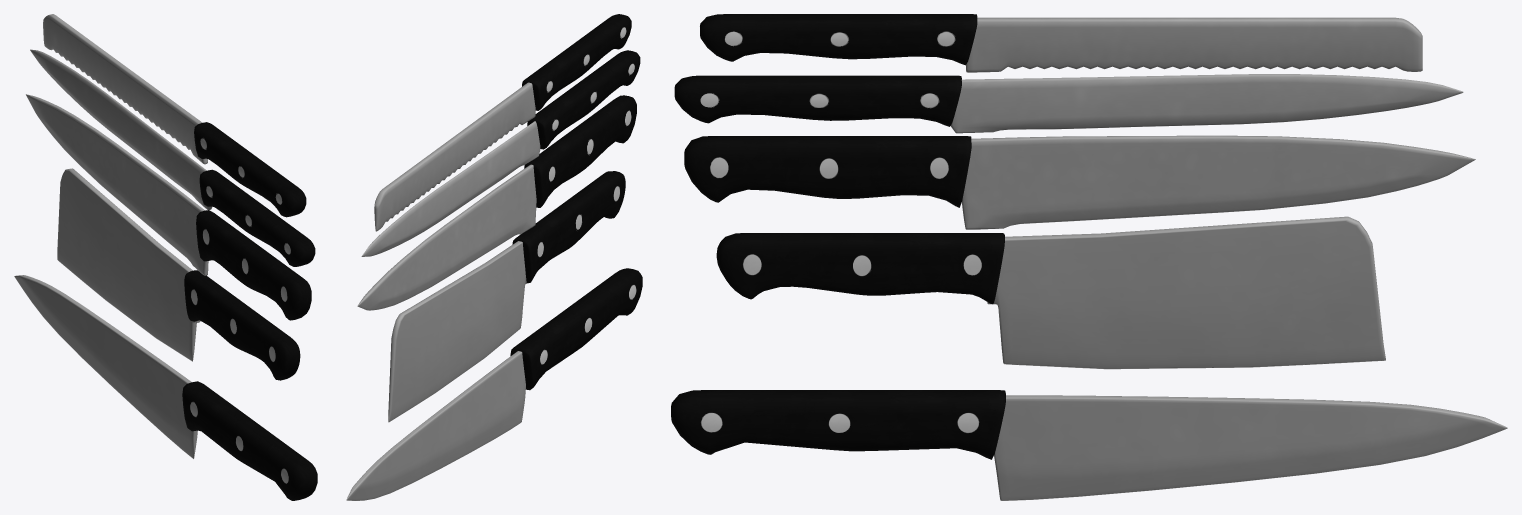
File: Kitchen_Knives.fbx
3 renders of one model, left to right at view 1: azimuth 30°, elevation 25°; view 2: azimuth 150°, elevation 25°; view 3: azimuth 270°, elevation 25°, orthographic. The views are drawn at different scales.
Visible parts, largest first — view 1: Blade2, Blade1, Blade3, Handle.001, Blade5, Blade4, Handle.002, Handle.003, Handle, Handle.004; view 2: Blade2, Blade1, Blade3, Blade5, Handle.001, Blade4, Handle.002, Handle.003, Handle, Handle.004; view 3: Blade2, Blade1, Blade3, Blade5, Blade4, Handle.001, Handle.003, Handle.002, Handle, Handle.004.
Part boxes in pixels (left/top/right/bottom): Blade2: left=57, top=168, right=200, bottom=361; Blade1: left=14, top=275, right=197, bottom=458; Blade3: left=26, top=94, right=208, bottom=275; Handle.001: left=182, top=381, right=317, bottom=500; Blade5: left=43, top=14, right=207, bottom=164; Blade4: left=30, top=49, right=212, bottom=209; Handle.002: left=184, top=270, right=300, bottom=380; Handle.003: left=196, top=210, right=311, bottom=320; Handle: left=199, top=169, right=315, bottom=266; Handle.004: left=194, top=122, right=306, bottom=217; Blade2: left=388, top=241, right=526, bottom=422; Blade1: left=346, top=351, right=525, bottom=500; Blade3: left=357, top=164, right=536, bottom=310; Blade5: left=374, top=82, right=535, bottom=231; Handle.001: left=510, top=268, right=642, bottom=390; Blade4: left=361, top=121, right=540, bottom=256; Handle.002: left=512, top=171, right=625, bottom=283; Handle.003: left=524, top=95, right=636, bottom=207; Handle: left=527, top=50, right=640, bottom=149; Handle.004: left=522, top=14, right=631, bottom=110; Blade2: left=987, top=216, right=1385, bottom=369; Blade1: left=994, top=395, right=1507, bottom=500; Blade3: left=962, top=135, right=1475, bottom=229; Blade5: left=966, top=17, right=1422, bottom=72; Blade4: left=950, top=74, right=1463, bottom=133; Handle.001: left=671, top=390, right=1005, bottom=459; Handle.003: left=684, top=136, right=971, bottom=207; Handle.002: left=716, top=233, right=1004, bottom=304; Handle: left=674, top=75, right=961, bottom=126; Handle.004: left=700, top=14, right=977, bottom=65.
Bounding box in the file's own units: 21.33 × 308 × 483.
Materials: 2 (2 with a texture image).
